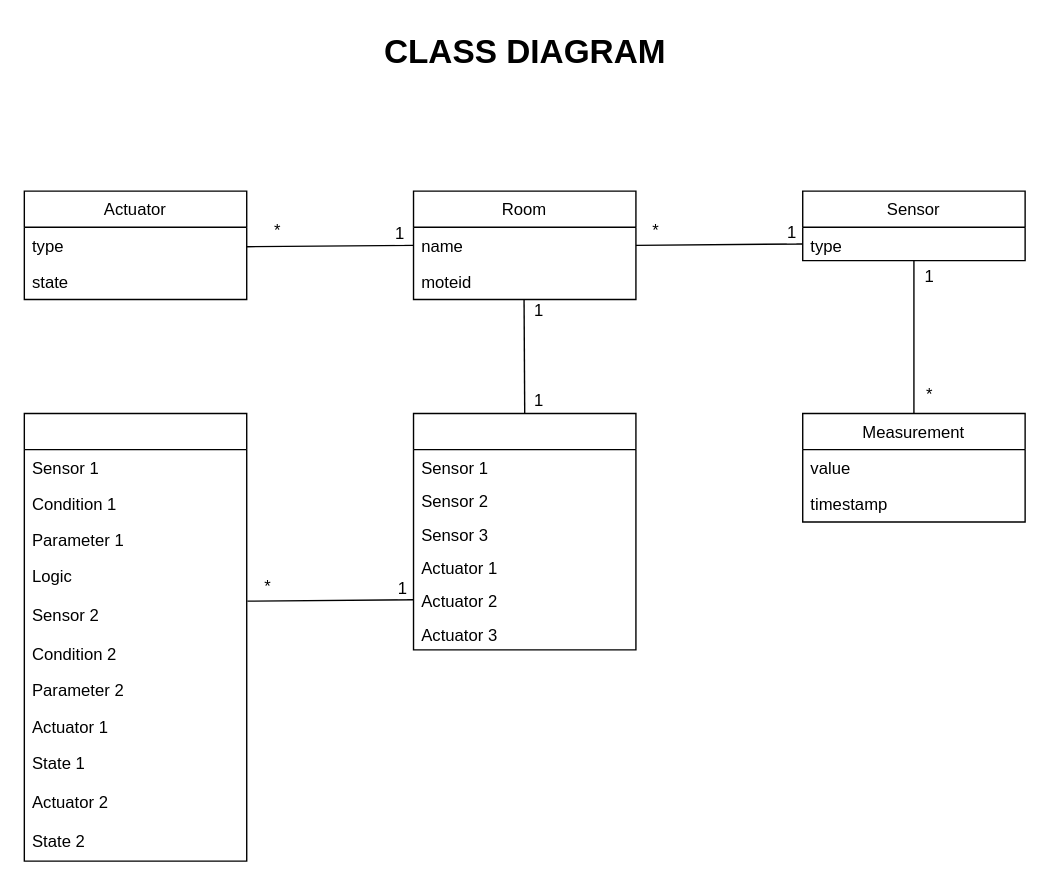
Image size: 1049x888. Some labels were removed from this diagram. Here are the shapes that lost their labels. From the top down, the box of each, then its label:
(412, 412, 636, 650): Configuration
(23, 412, 247, 861): Rules
